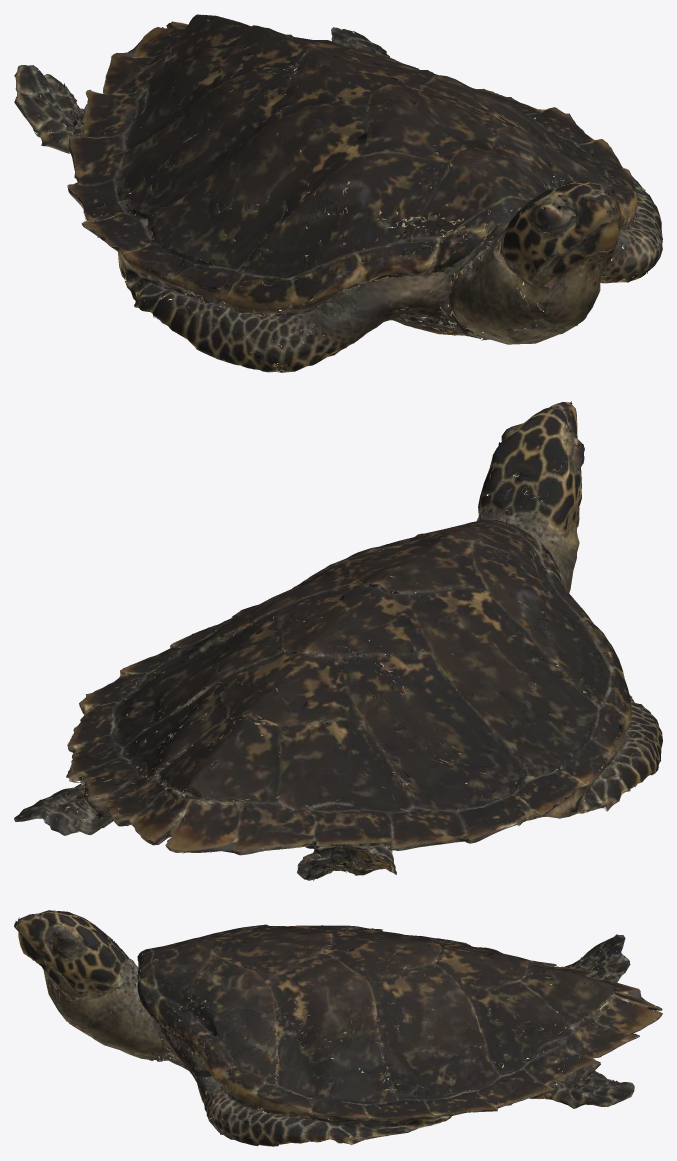
File: turtle.glb
3 renders of one model, top to bottom at view 1: azimuth 30°, elevation 25°; view 2: azimuth 150°, elevation 25°; view 3: azimuth 270°, elevation 25°, orthographic. The views are drawn at different scales.
Visible parts, largest first — view 1: Object_3, Object_2, Object_4; view 2: Object_3, Object_2, Object_4; view 3: Object_2, Object_3, Object_4.
Boxes of the visible parts, left/top/right/bottom form: Object_3: left=15, top=14, right=661, bottom=371; Object_2: left=14, top=15, right=662, bottom=372; Object_4: left=237, top=28, right=635, bottom=340; Object_3: left=66, top=401, right=662, bottom=880; Object_2: left=14, top=431, right=656, bottom=880; Object_4: left=17, top=437, right=581, bottom=834; Object_2: left=59, top=929, right=662, bottom=1146; Object_3: left=14, top=910, right=662, bottom=1143; Object_4: left=48, top=929, right=625, bottom=1129.
Bounding box in the file's own units: 0.6212 × 0.2625 × 0.9494.
2 materials, 1 textured.
